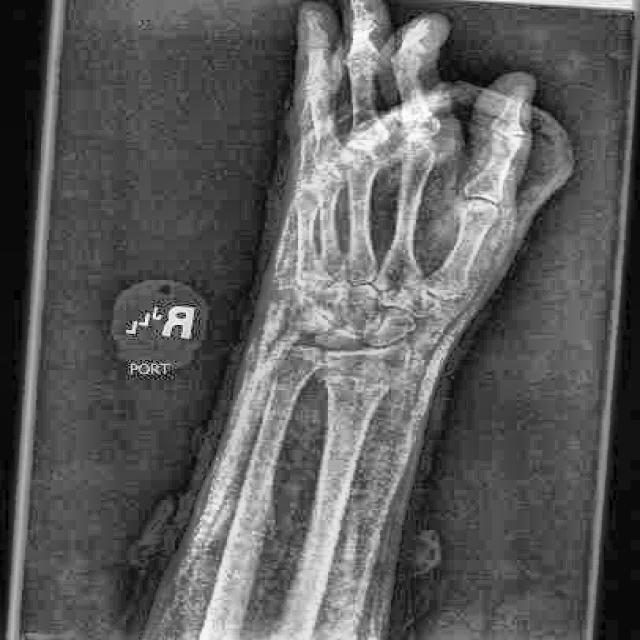fingers positive: (236, 349, 449, 429)
